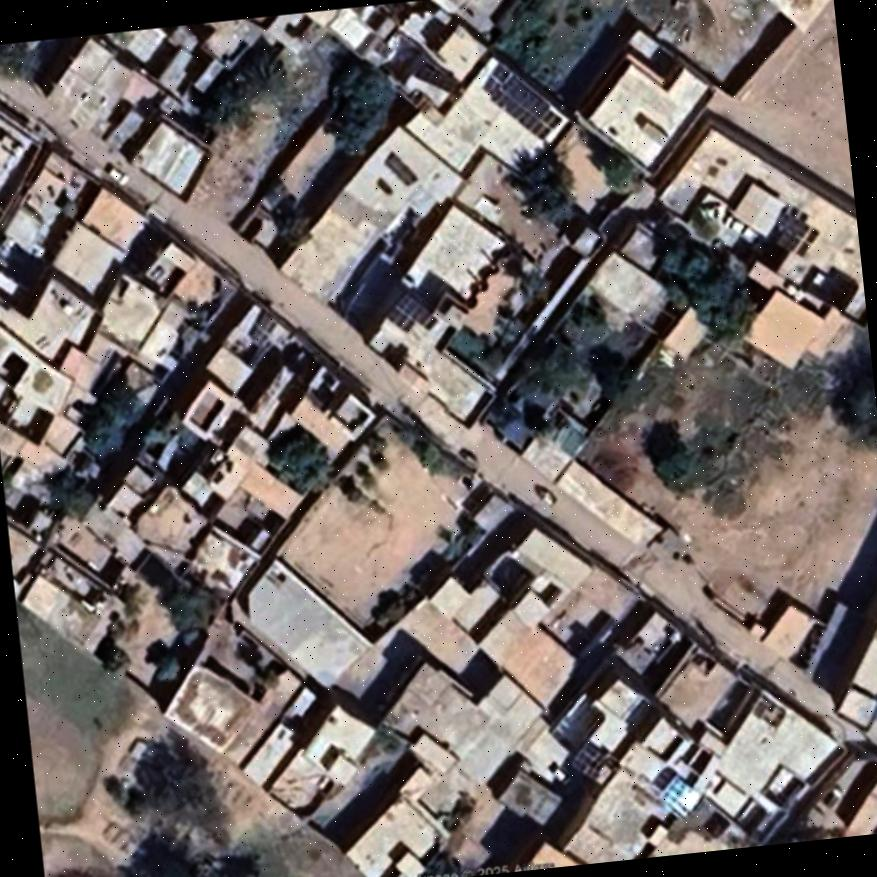Solarpanel: (485, 61, 552, 131), (383, 292, 423, 330)
